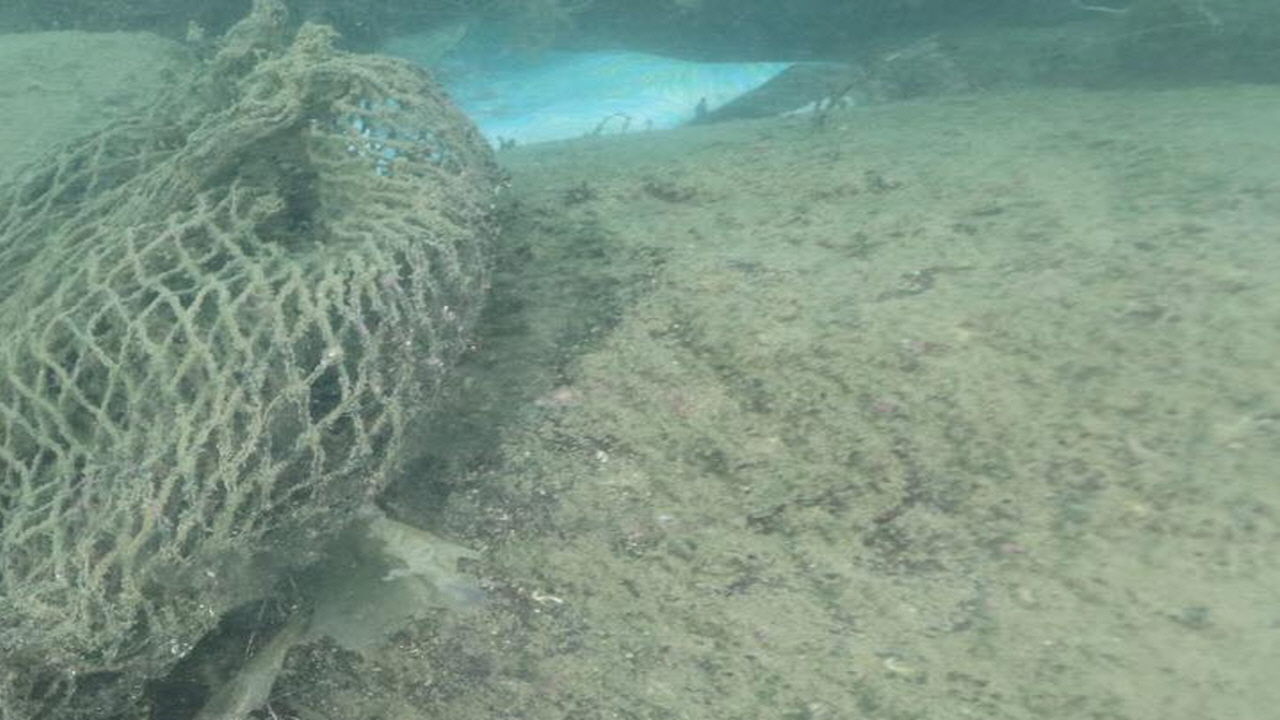fish net: (0, 22, 507, 693)
